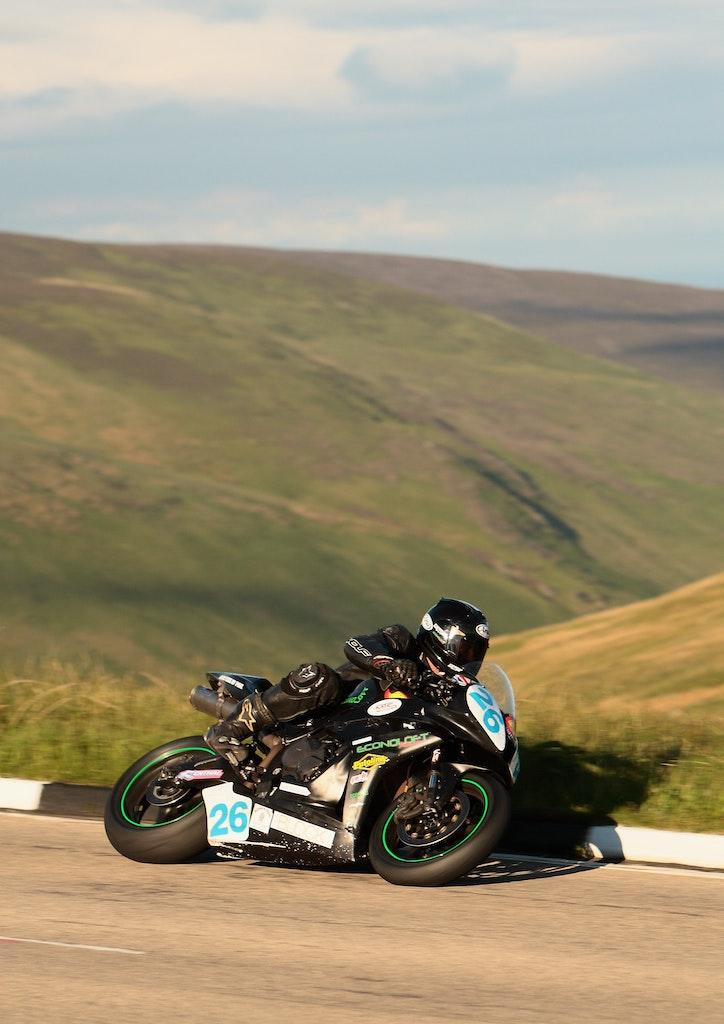helmet: (415, 595, 490, 690)
